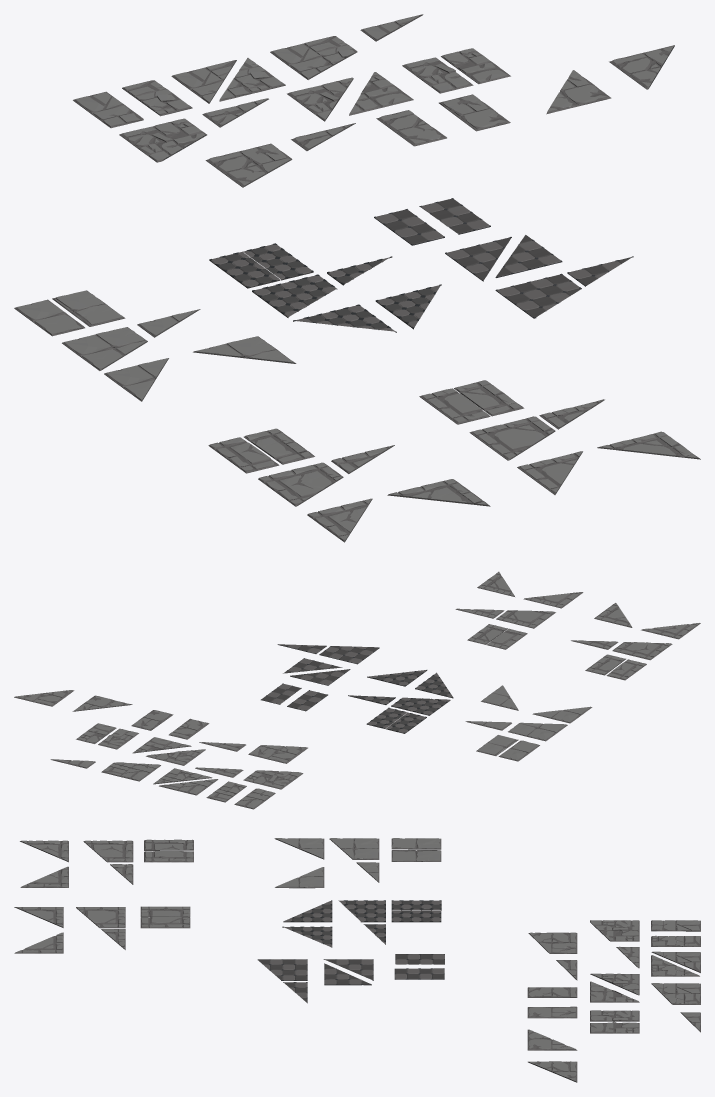
File: Tiles.fbx
3 renders of one model, top to bottom at view 1: azimuth 30°, elevation 25°; view 2: azimuth 150°, elevation 25°; view 3: azimuth 270°, elevation 25°, orthographic. The views are drawn at different scales.
Visible parts, largest first — view 1: SM_Env_Tiles_02.002, SM_Env_Tiles_01.004, SM_Env_Tiles_03.001, SM_Env_Tiles_05.003, SM_Env_Tiles_04.003, SM_Env_Tiles_Ornate_02.005, SM_Env_Tiles_09.003, SM_Env_Tiles_Ornate_01.003, SM_Env_Tiles_09.002, SM_Env_Tiles_03.004, SM_Env_Tiles_03.006, SM_Env_Tiles_04.006 (+28 smaller); view 2: SM_Env_Tiles_02.002, SM_Env_Tiles_01.004, SM_Env_Tiles_03.001, SM_Env_Tiles_09.003, SM_Env_Tiles_05.003, SM_Env_Tiles_Ornate_02.005, SM_Env_Tiles_04.003, SM_Env_Tiles_Ornate_01.003, SM_Env_Tiles_02.004, SM_Env_Tiles_03.006, SM_Env_Tiles_Ornate_01.006, SM_Env_Tiles_09.005 (+28 smaller); view 3: SM_Env_Tiles_02.002, SM_Env_Tiles_04.003, SM_Env_Tiles_09.003, SM_Env_Tiles_01.004, SM_Env_Tiles_Ornate_02.005, SM_Env_Tiles_03.001, SM_Env_Tiles_05.003, SM_Env_Tiles_Ornate_01.003, SM_Env_Tiles_Ornate_01.004, SM_Env_Tiles_03.004, SM_Env_Tiles_09.006, SM_Env_Tiles_03.005 (+28 smaller).
Part boxes in pixels (box(x1,y1,x2,y2)): SM_Env_Tiles_02.002: box(119, 118, 206, 162); SM_Env_Tiles_01.004: box(270, 36, 357, 79); SM_Env_Tiles_03.001: box(205, 143, 292, 187); SM_Env_Tiles_05.003: box(469, 416, 555, 460); SM_Env_Tiles_04.003: box(258, 462, 343, 506); SM_Env_Tiles_Ornate_02.005: box(495, 273, 581, 318); SM_Env_Tiles_09.003: box(62, 327, 147, 370); SM_Env_Tiles_Ornate_01.003: box(252, 274, 337, 317); SM_Env_Tiles_09.002: box(52, 290, 125, 326); SM_Env_Tiles_03.004: box(439, 94, 510, 131); SM_Env_Tiles_03.006: box(609, 45, 674, 89); SM_Env_Tiles_04.006: box(387, 479, 490, 506); SM_Env_Tiles_02.002: box(243, 770, 303, 789); SM_Env_Tiles_01.004: box(101, 762, 160, 781); SM_Env_Tiles_03.001: box(248, 745, 307, 763); SM_Env_Tiles_09.003: box(508, 722, 567, 741); SM_Env_Tiles_05.003: box(496, 610, 555, 628); SM_Env_Tiles_Ornate_02.005: box(319, 646, 379, 664); SM_Env_Tiles_04.003: box(612, 642, 672, 660); SM_Env_Tiles_Ornate_01.003: box(391, 697, 450, 715); SM_Env_Tiles_02.004: box(146, 749, 205, 765); SM_Env_Tiles_03.006: box(14, 690, 74, 706); SM_Env_Tiles_Ornate_01.006: box(367, 670, 427, 686); SM_Env_Tiles_09.005: box(532, 706, 592, 723); SM_Env_Tiles_02.002: box(590, 920, 639, 941); SM_Env_Tiles_04.003: box(83, 840, 133, 862); SM_Env_Tiles_09.003: box(329, 838, 379, 859); SM_Env_Tiles_01.004: box(651, 983, 700, 1004); SM_Env_Tiles_Ornate_02.005: box(257, 959, 307, 980); SM_Env_Tiles_03.001: box(528, 932, 577, 953); SM_Env_Tiles_05.003: box(76, 907, 125, 928); SM_Env_Tiles_Ornate_01.003: box(338, 900, 385, 922); SM_Env_Tiles_Ornate_01.004: box(283, 900, 332, 922); SM_Env_Tiles_03.004: box(527, 1006, 577, 1018); SM_Env_Tiles_09.006: box(275, 867, 324, 888); SM_Env_Tiles_03.005: box(527, 1029, 577, 1050).
Bounding box in the file's own units: 57.83 × 0.1891 × 68.8.
